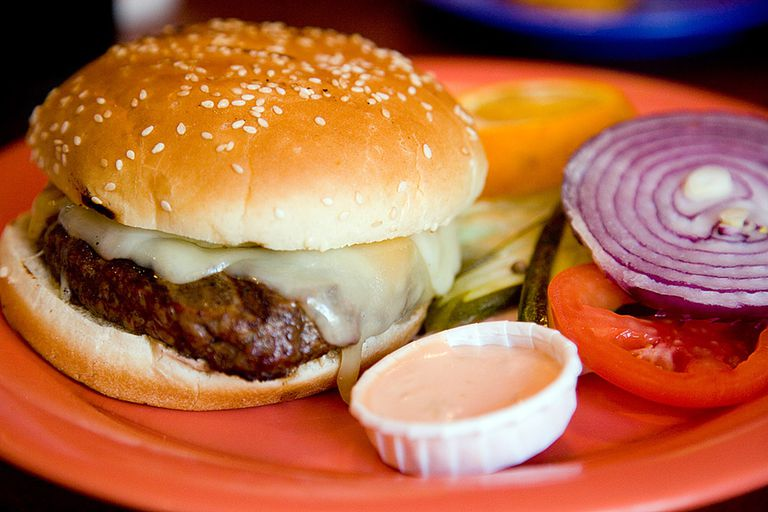hamburger_buns: (22, 14, 488, 246)
